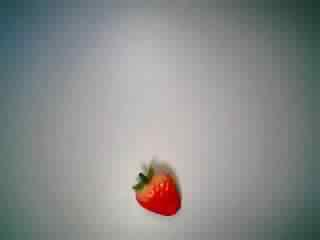strawberry: (123, 153, 191, 217)
